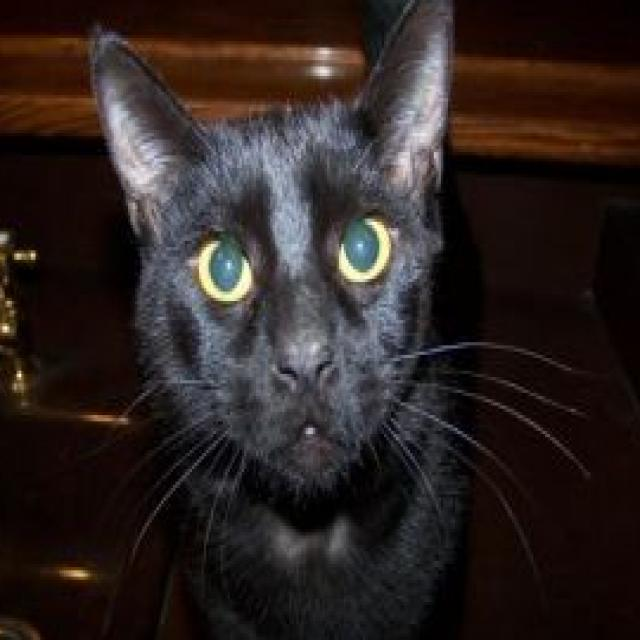Bombay: (83, 0, 474, 640)
